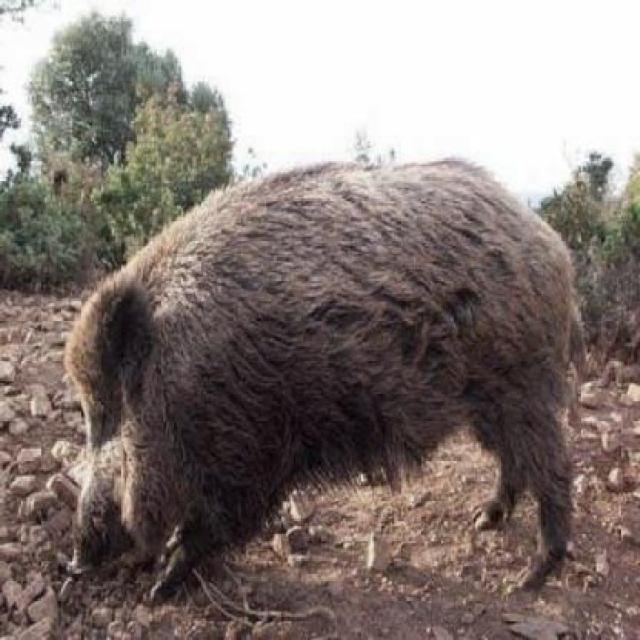Boar: (41, 160, 605, 623)
